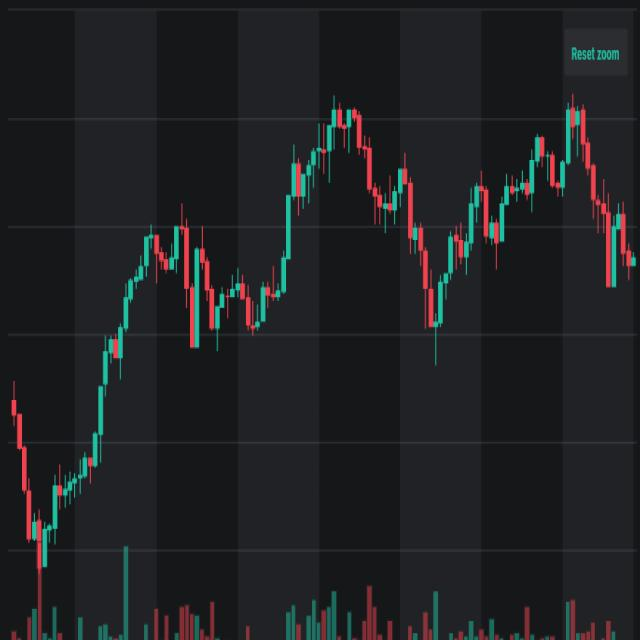Resistance-breakout: (6, 219, 159, 552), (170, 80, 356, 333)
